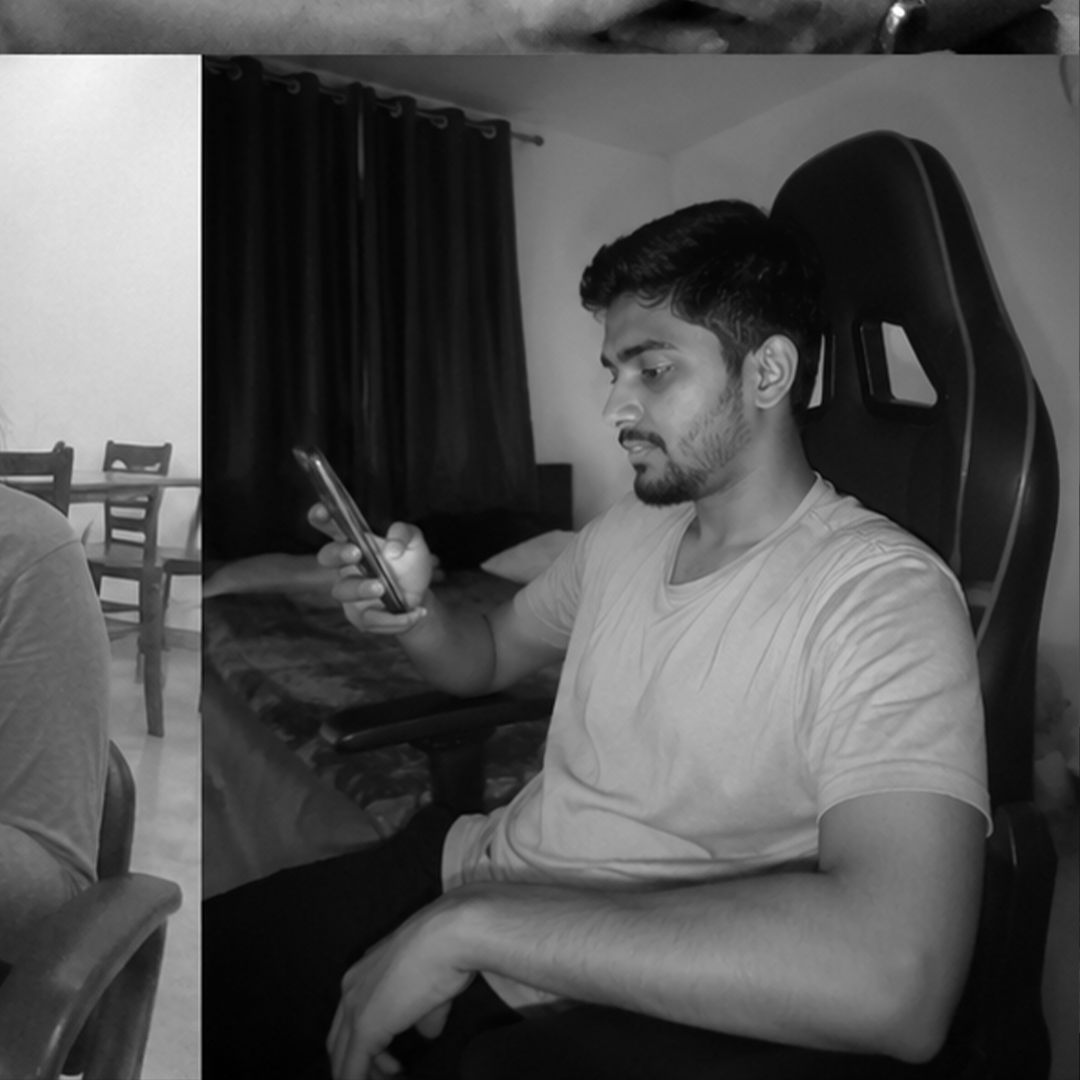distracted: (467, 180, 917, 978)
